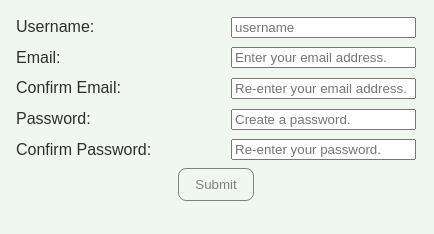
Test case: Signup Form › can show error for password being too short
In the password field labelled "Password:": (324, 119) x1=231 y1=109 x2=416 y2=130, type "p"
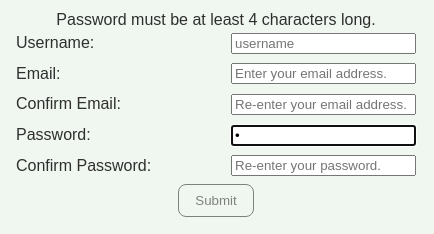
Result: the text "Password must be at least 4 characters long." is shown at x1=56 y1=12 x2=376 y2=28
